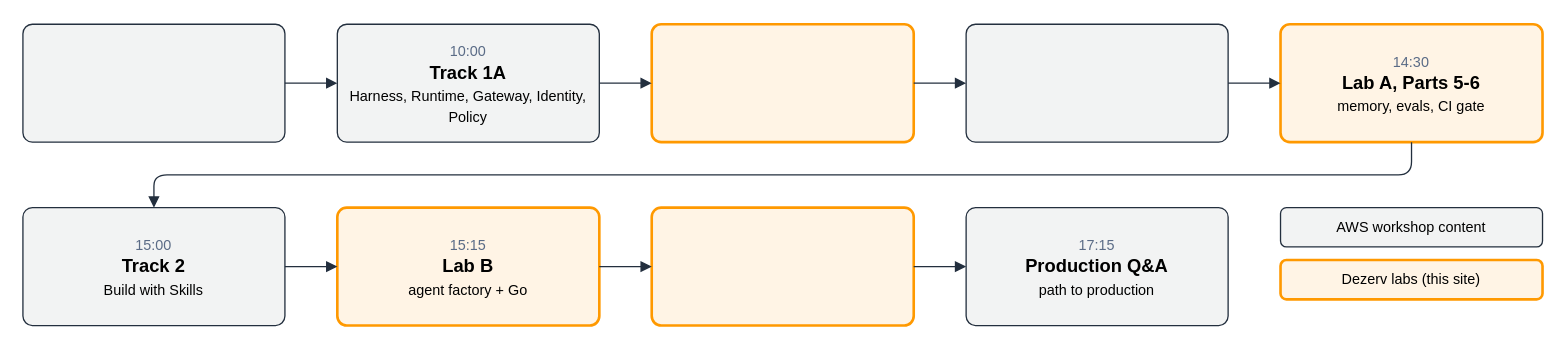
The diagram is 1567 pixels wide and 348 high, and some of its shapes have lost their labels. Each missing label, with the box of its shape:
09:30 Mental model talk, bootstrap runs: (22, 23, 285, 142)
11:45 Lab A, Parts 1-4 Gateway, Cedar, interceptors, audit: (650, 22, 914, 143)
13:45 Track 1B Memory, Observe, Evaluate: (965, 23, 1228, 142)
15:45 Capstone your squad's agent: (650, 206, 914, 326)
